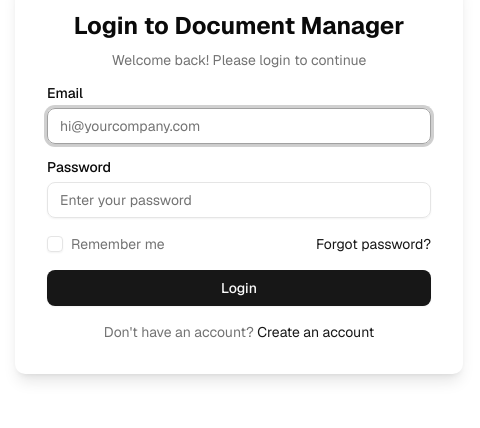
Test: LoginForm › validates password field on form submission
The width and height of the screenshot is (480, 428).
Note: Fill the email field but not the password
In the field labelled "Email": (239, 126) [47,108,431,144], type "test@example.com"
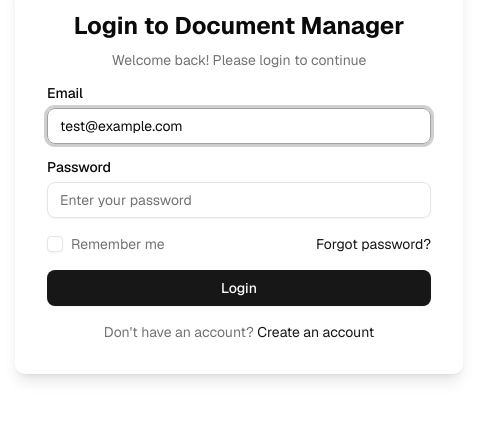
Note: Submit the form
Click the button "Login": (239, 288) [47,270,431,306]
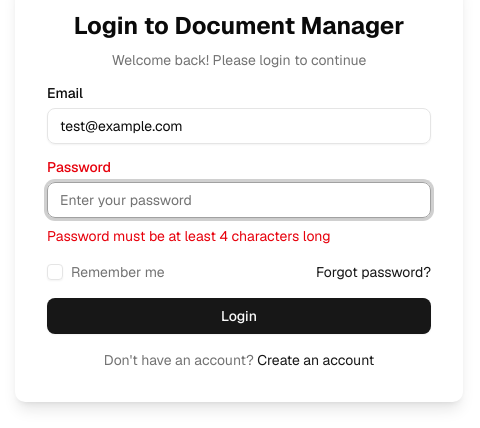
Now the text "Password must be at least 4 characters long" is shown, box [47,227,331,245]
